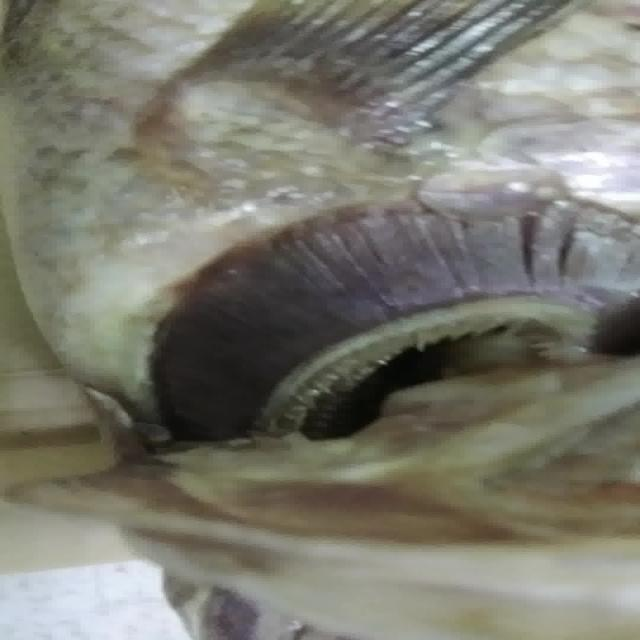Non-Fresh: (120, 163, 640, 427)
